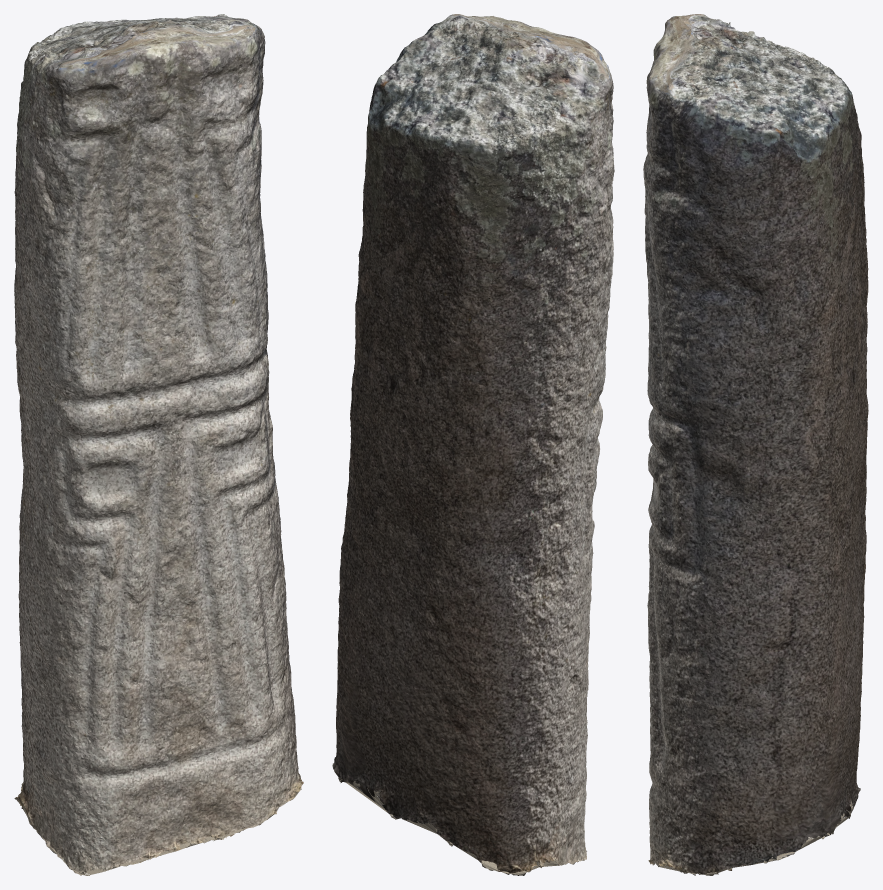
File: monolito.glb
3 views of the same model, side by side, from view 1: azimuth 30°, elevation 25°; view 2: azimuth 150°, elevation 25°; view 3: azimuth 270°, elevation 25° (orthographic). The views are drawn at different scales.
Parts seen in each view (by area): view 1: Object_21; view 2: Object_21; view 3: Object_21.
Part boxes in pixels (x1,y1,x2,y2): Object_21: (14,14,303,875); Object_21: (332,14,614,875); Object_21: (643,14,868,875).
Size of the model in its own units: 0.6573 by 2.03 by 0.5049.
Materials: 1 (1 with a texture image).
